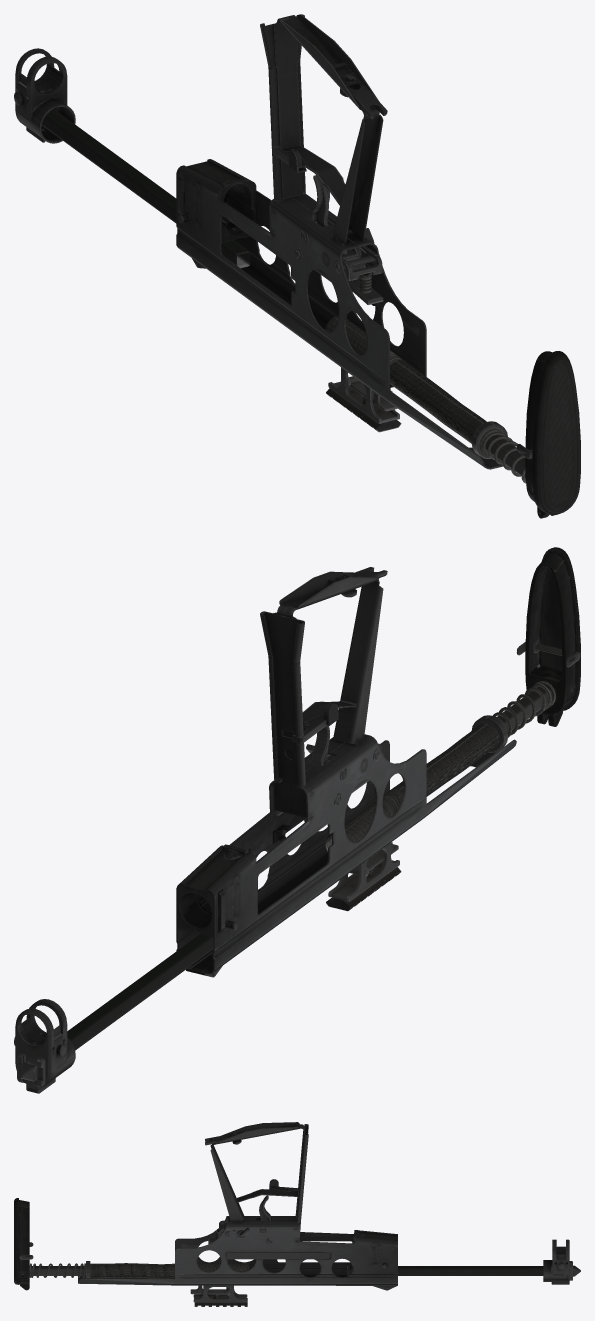
The picture shows the model from 3 angles, top to bottom: view 1: azimuth 30°, elevation 25°; view 2: azimuth 150°, elevation 25°; view 3: azimuth 270°, elevation 25°; orthographic projection. The views are drawn at different scales.
Parts seen in each view (by area): view 1: TW_67124dcfa3541f2a1f0e788b_PZ_Import; view 2: TW_67124dcfa3541f2a1f0e788b_PZ_Import; view 3: TW_67124dcfa3541f2a1f0e788b_PZ_Import.
Part boxes in pixels (x1=…): TW_67124dcfa3541f2a1f0e788b_PZ_Import: x1=14, y1=14, x2=580, y2=518; TW_67124dcfa3541f2a1f0e788b_PZ_Import: x1=14, y1=547, x2=580, y2=1093; TW_67124dcfa3541f2a1f0e788b_PZ_Import: x1=14, y1=1122, x2=580, y2=1306.
Bounding box in the file's own units: 0.0284 × 0.4541 × 0.1588.
Materials: 1 (1 with a texture image).
